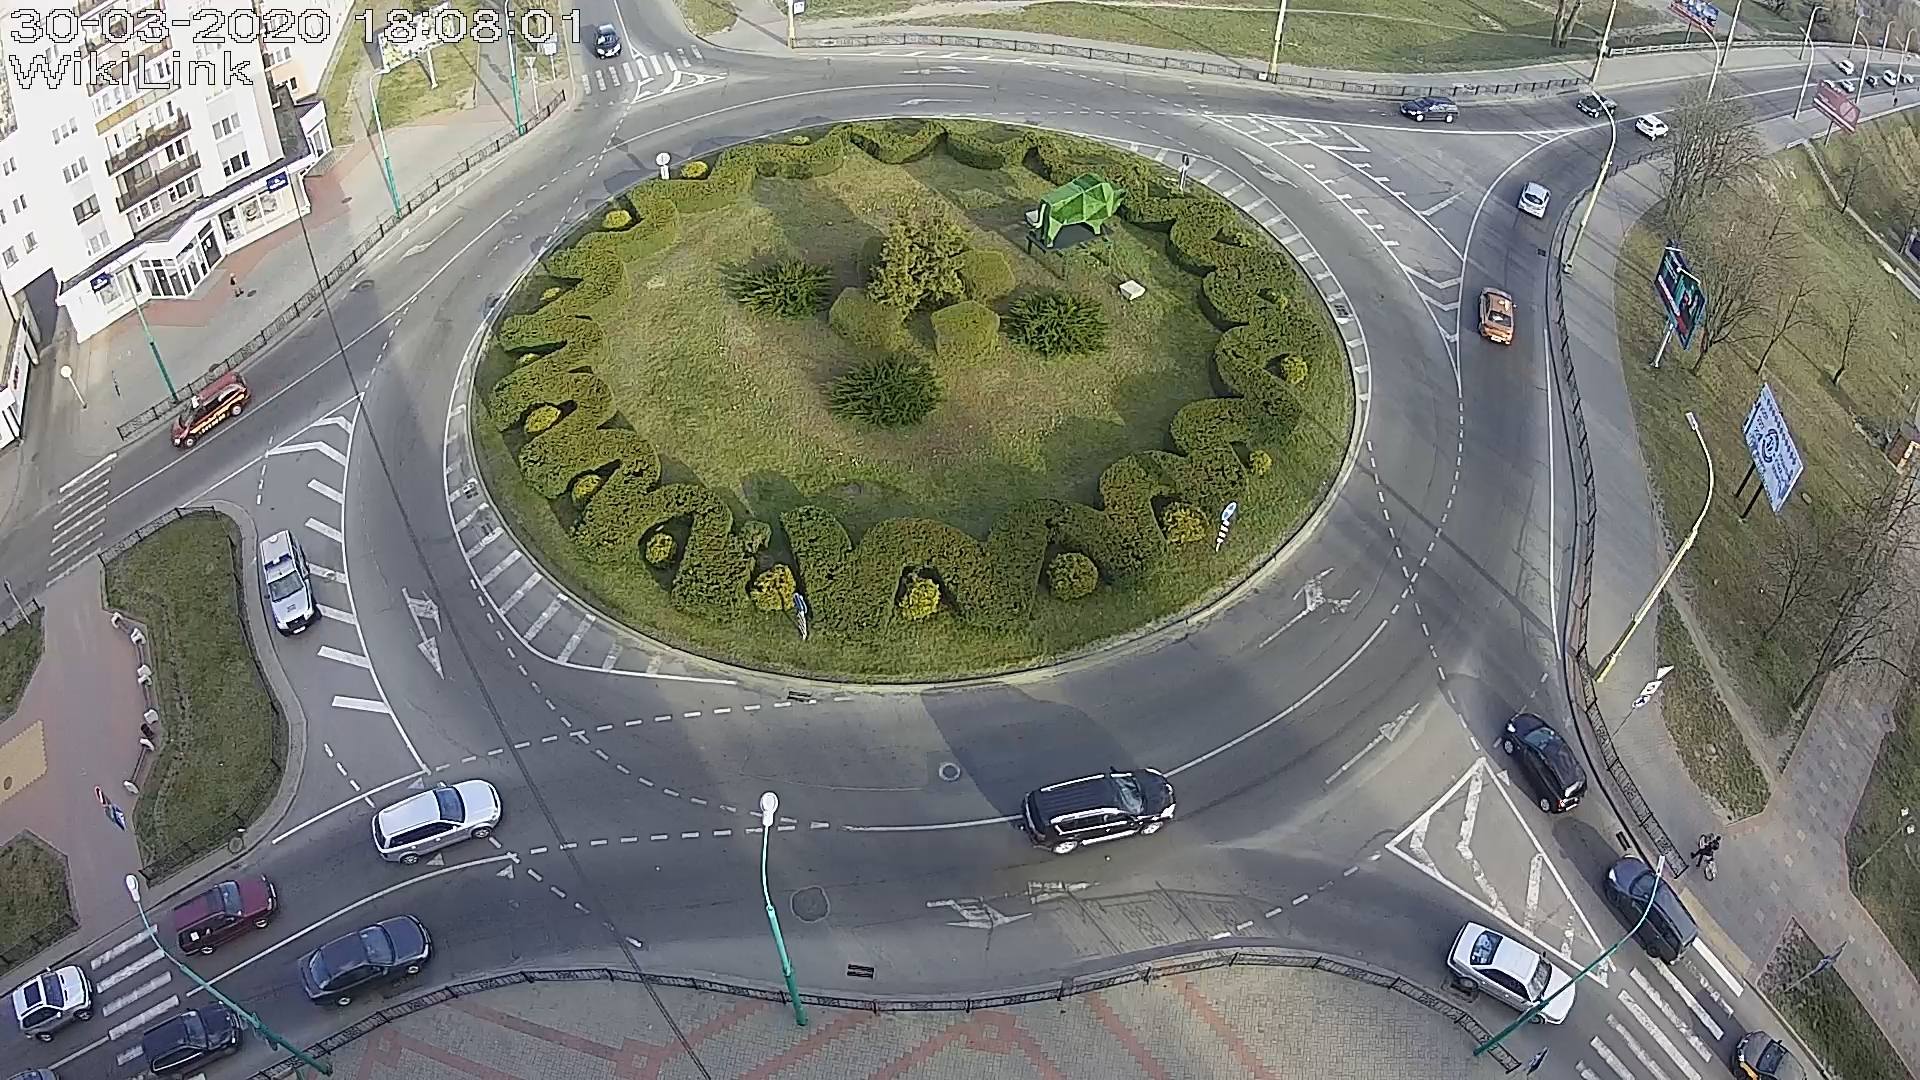car: (1021, 766, 1176, 856), (1447, 920, 1576, 1026), (295, 914, 433, 1007), (371, 778, 502, 865), (1604, 855, 1698, 965), (173, 874, 280, 956), (1503, 713, 1586, 814), (142, 1001, 244, 1079), (258, 529, 322, 637), (12, 965, 94, 1043), (171, 372, 251, 448), (1477, 286, 1516, 345), (1398, 95, 1458, 123), (1518, 181, 1551, 219), (593, 22, 622, 59), (1576, 94, 1618, 119), (1636, 113, 1669, 142)
